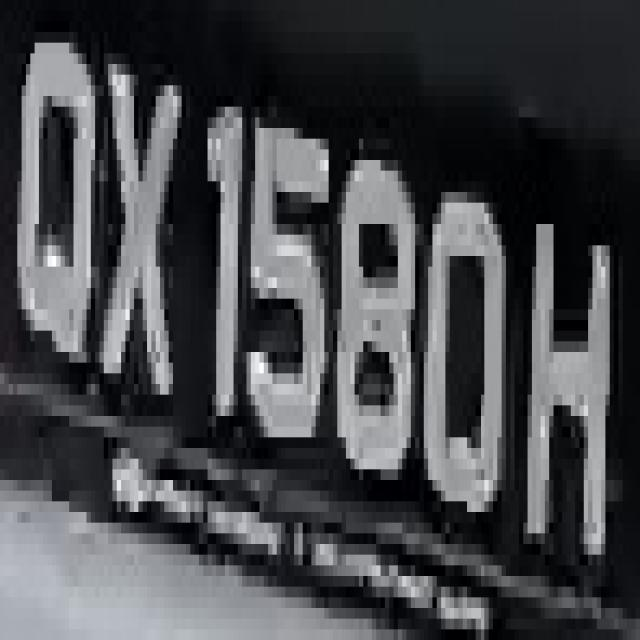0: (410, 150, 514, 534)
1: (204, 42, 246, 458)
5: (242, 64, 333, 459)
8: (342, 138, 419, 490)
H: (528, 181, 622, 608)
Q: (18, 21, 112, 374)
X: (95, 43, 182, 416)
